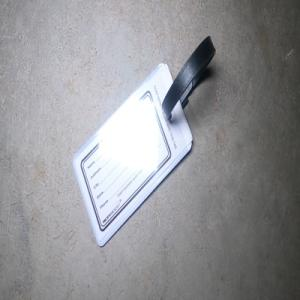LuggageTag: (70, 33, 217, 249)
